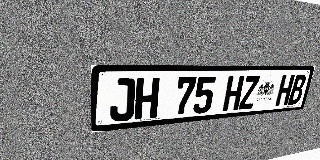5: (193, 76, 216, 114)
7: (173, 77, 197, 116)
B: (287, 75, 307, 105)
H: (134, 77, 160, 120), (222, 76, 245, 111), (275, 75, 295, 106)
J: (109, 78, 136, 122)
Z: (238, 75, 260, 110)
